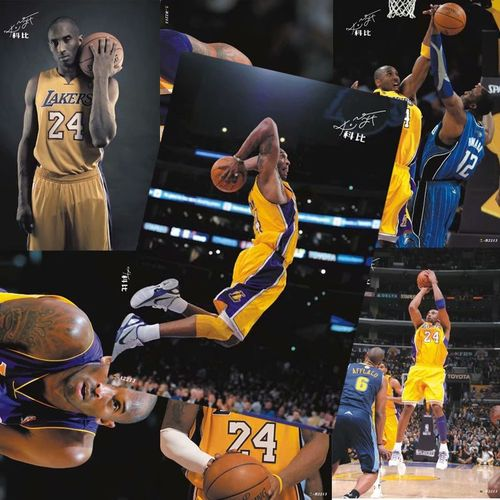ball: (203, 453, 272, 500), (78, 32, 125, 78), (211, 156, 248, 193), (434, 3, 466, 36), (416, 269, 437, 290)
